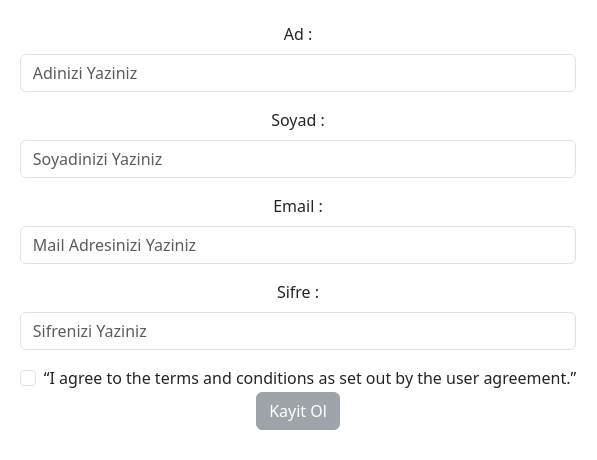
Scenario: Tests for Login Page › Error Messages › Name input not pass to test for less than 3 chars
The width and height of the screenshot is (597, 460).
Type "sr" into the field with test id "name-input".
click(299, 73); type("sr")  # box [20,54,577,92]
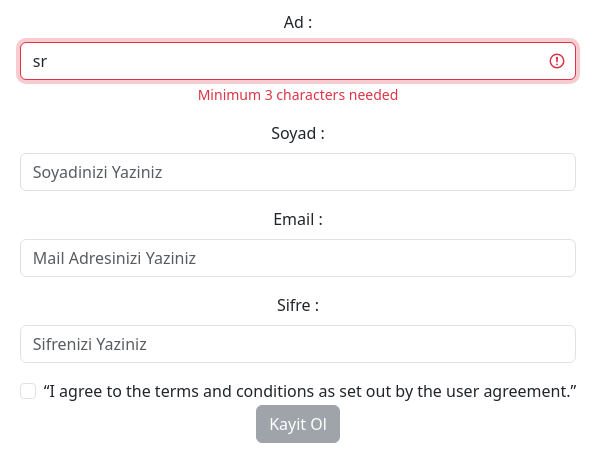
Expected: the text "Minimum 3 characters needed" is shown, [198,84,398,104]
